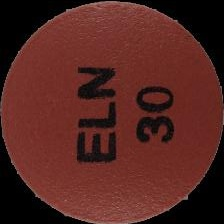68151-4223: (0, 0, 224, 224)
